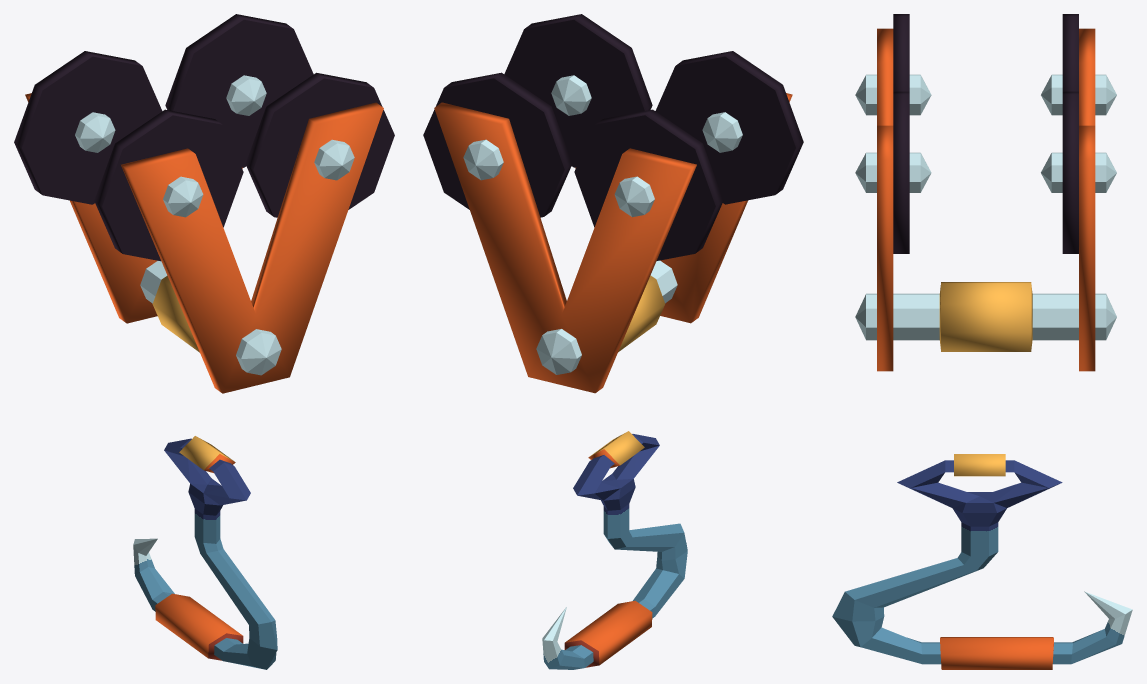
File: pulleyTether (7).fbx
3 views of the same model, side by side, from view 1: azimuth 30°, elevation 25°; view 2: azimuth 150°, elevation 25°; view 3: azimuth 270°, elevation 25° (orthographic). The views are drawn at different scales.
Parts seen in each view (by area): view 1: railpulley, hook1tether; view 2: railpulley, hook1tether; view 3: railpulley, hook1tether.
Boxes of the visible parts, x1,y1,x2,y2 form: railpulley: (14, 14, 394, 393); hook1tether: (133, 436, 277, 669); railpulley: (423, 14, 803, 393); hook1tether: (542, 431, 687, 669); railpulley: (855, 14, 1116, 371); hook1tether: (832, 454, 1132, 669).
Bounding box in the file's own units: 1.41 × 2.67 × 1.19.
